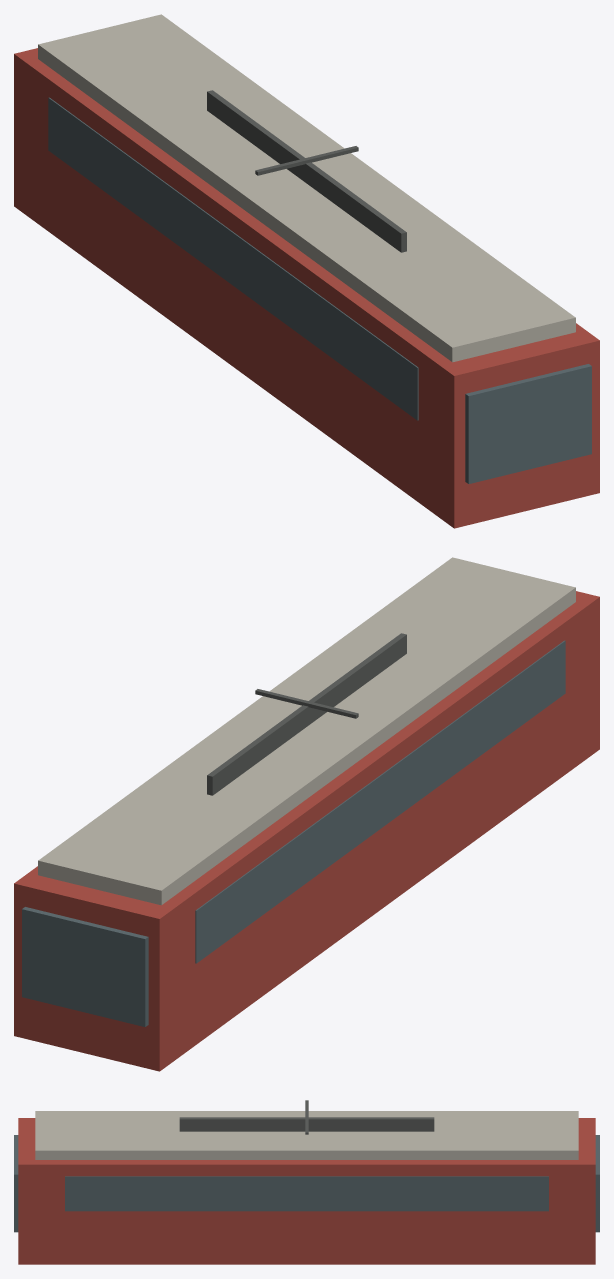
The model's file is v_tram.glb.
The picture shows the model from 3 angles, top to bottom: view 1: azimuth 30°, elevation 25°; view 2: azimuth 150°, elevation 25°; view 3: azimuth 270°, elevation 25°; orthographic projection. The views are drawn at different scales.
Parts seen in each view (by area): view 1: body; view 2: body; view 3: body.
Part boxes in pixels (x1,y1,x2,y2): body: [14, 14, 599, 528]; body: [14, 557, 599, 1071]; body: [14, 1100, 599, 1264].
Bounding box in the file's own units: 2.64 × 3.25 × 13.8.
